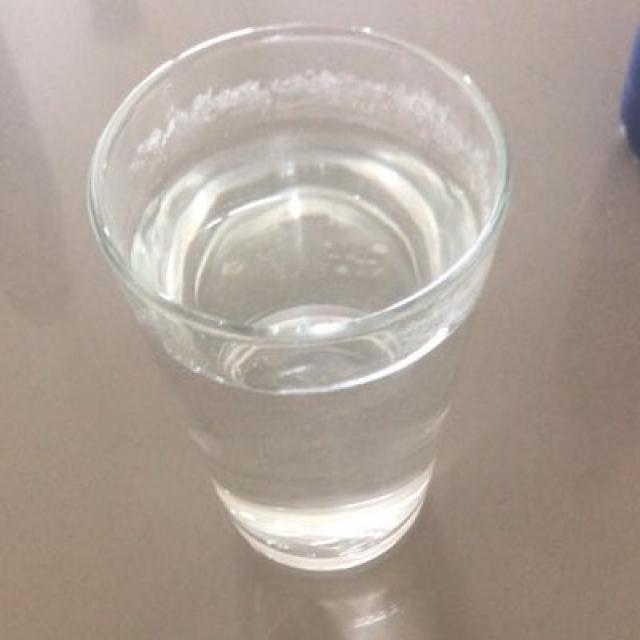water: (126, 119, 494, 544)
